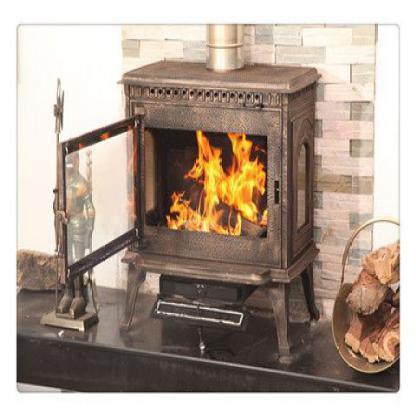fire: (234, 158, 266, 188), (168, 212, 212, 228), (192, 158, 224, 178), (220, 176, 242, 204), (202, 178, 220, 212), (228, 132, 251, 158), (242, 188, 256, 220), (196, 128, 210, 156), (226, 212, 240, 234), (170, 191, 184, 211), (212, 214, 221, 228)
